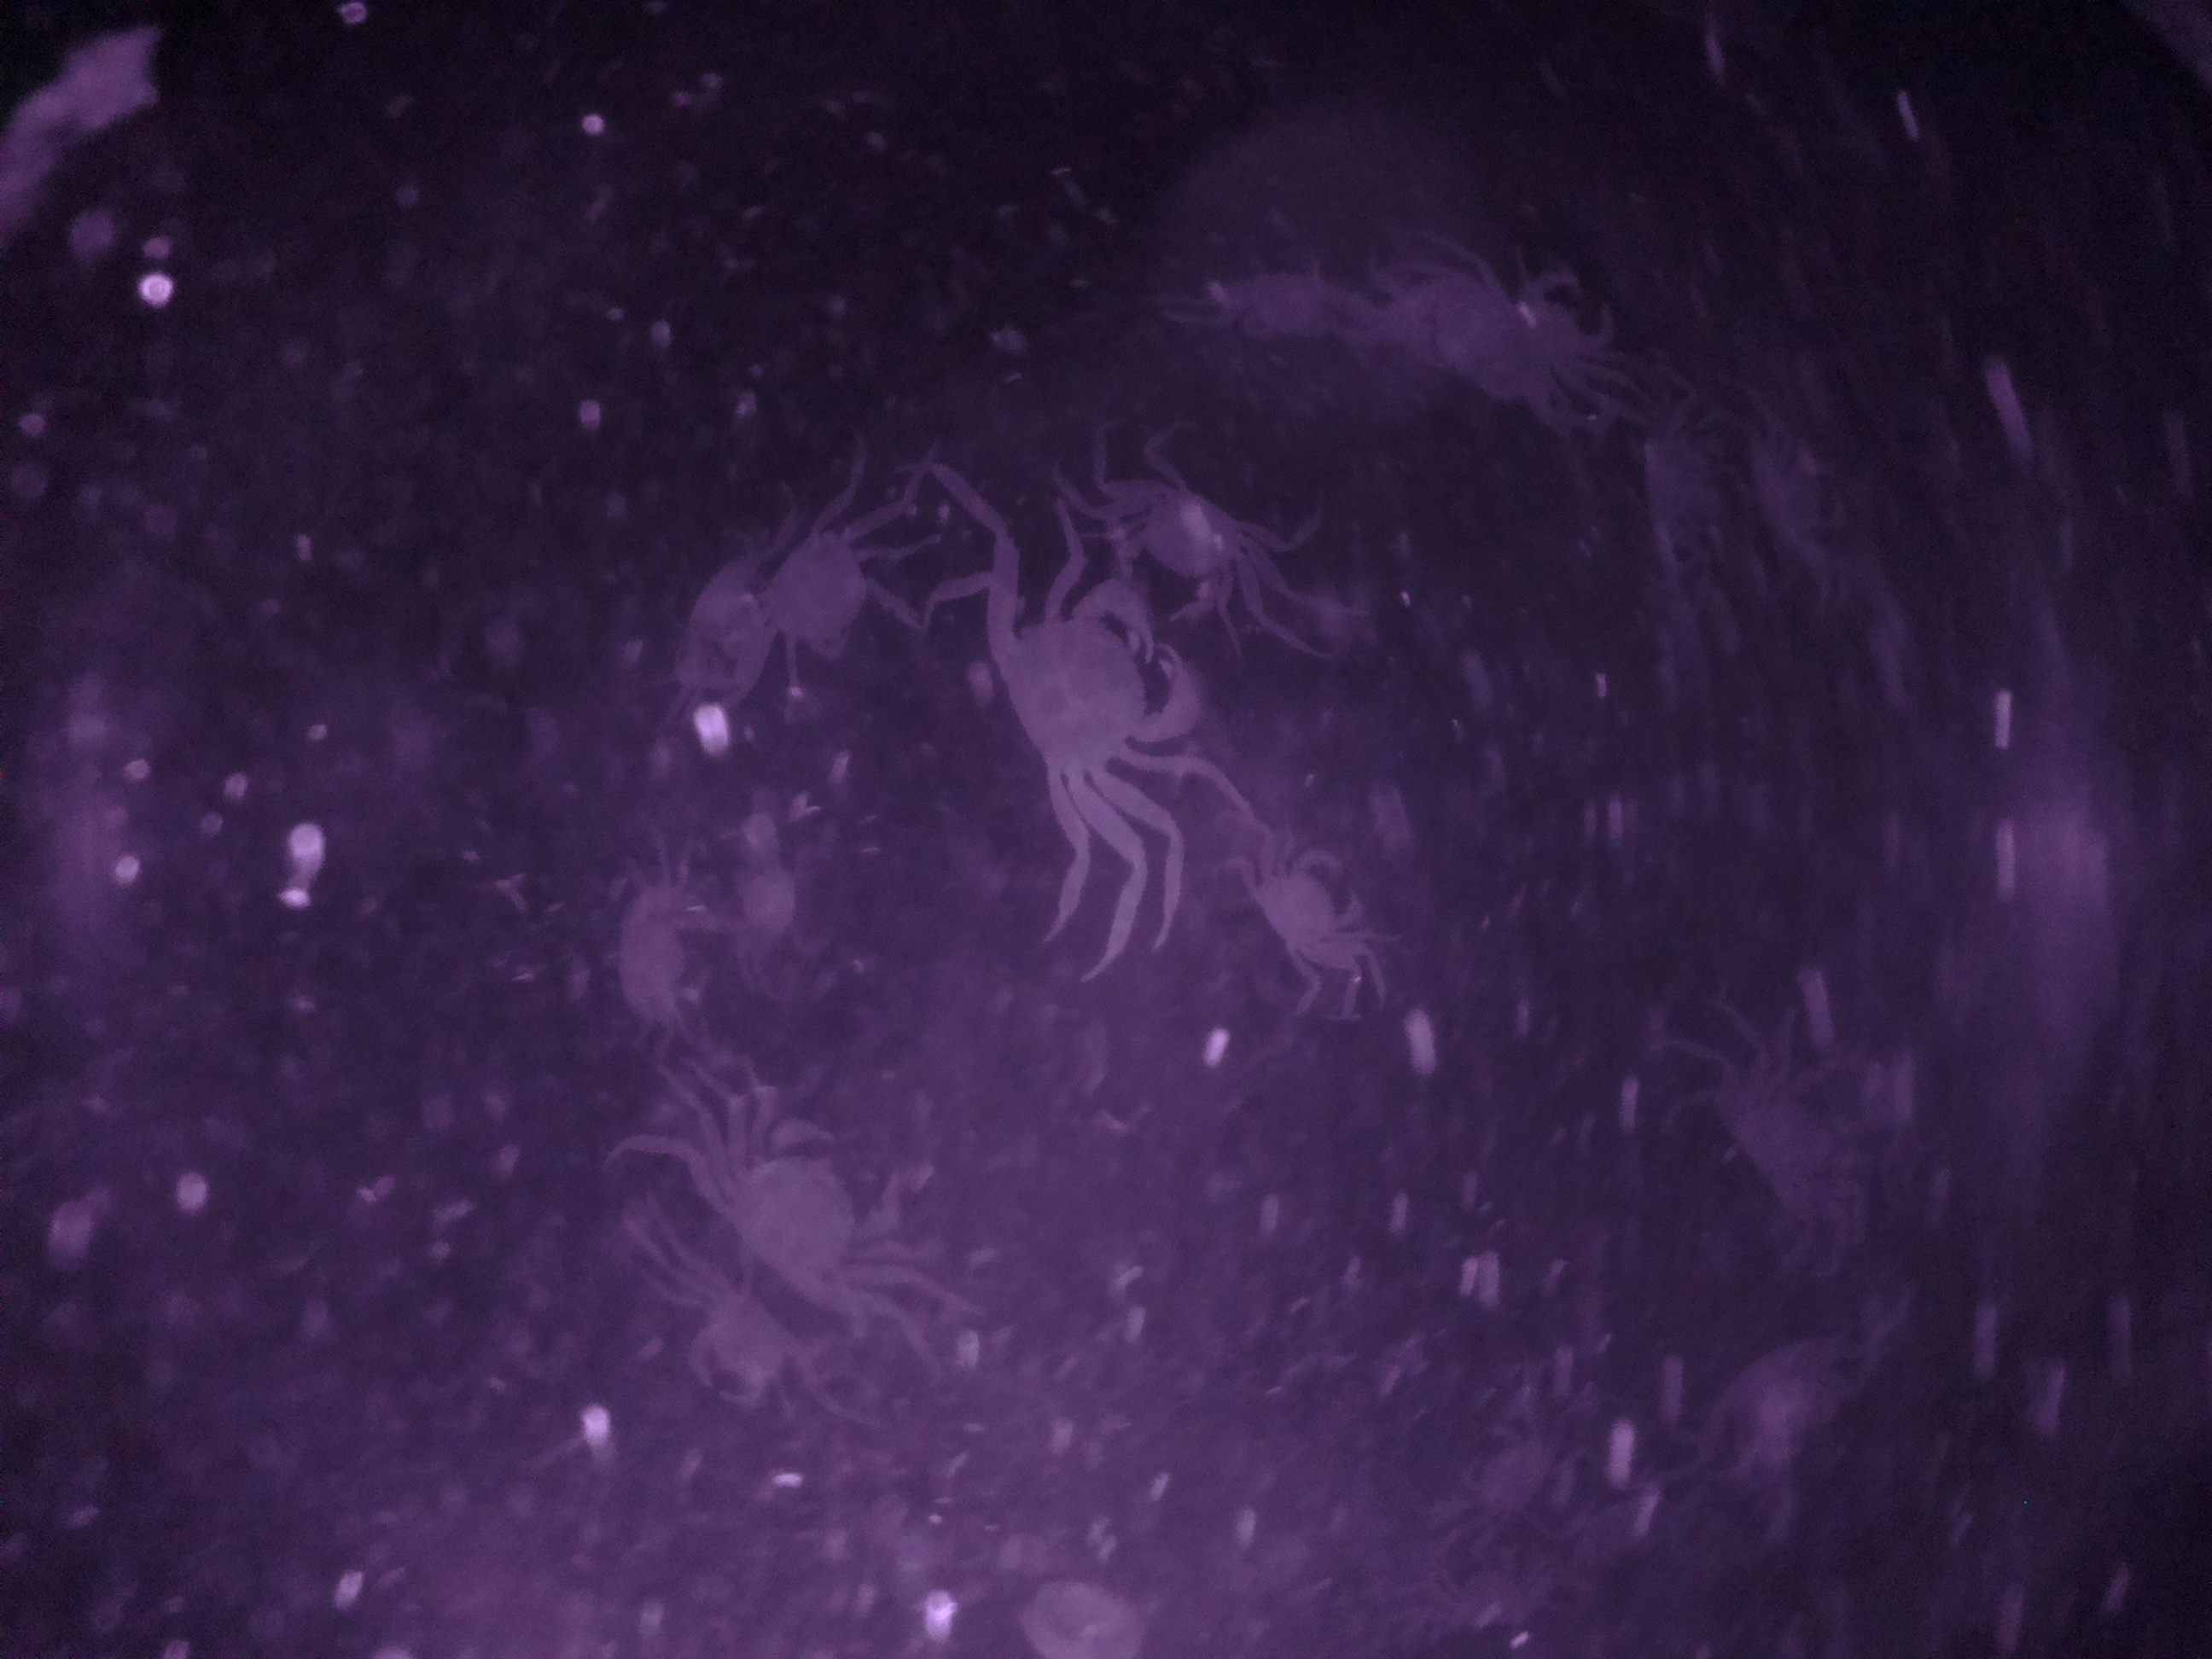Crab: (961, 565, 1190, 823), (685, 1084, 911, 1337), (1099, 448, 1271, 631), (1235, 840, 1379, 988)
